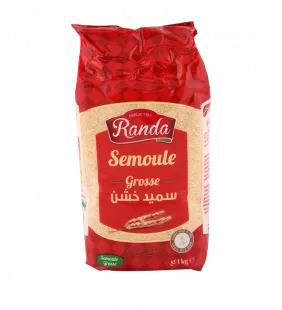RANDA: (61, 13, 220, 276)
